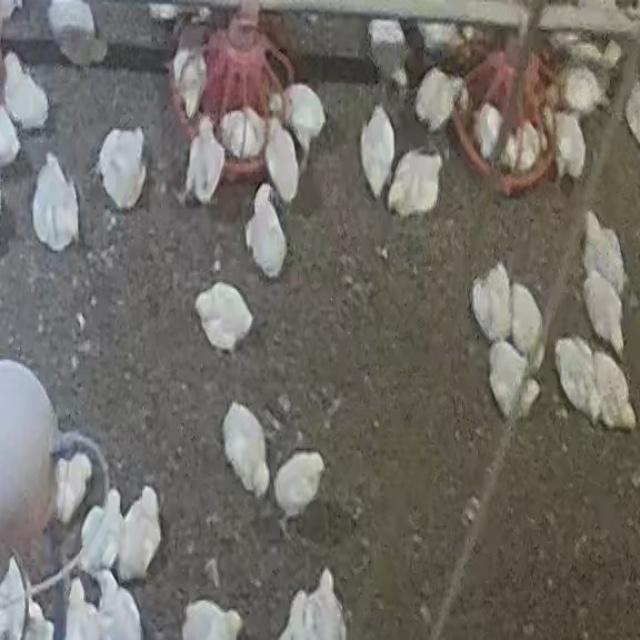chicken: (275, 567, 348, 639), (222, 402, 270, 501), (31, 154, 80, 250), (116, 487, 164, 582), (552, 337, 600, 425), (580, 210, 626, 301), (96, 127, 147, 209), (268, 84, 326, 156), (195, 280, 254, 350), (245, 184, 288, 279), (581, 271, 627, 359), (388, 146, 444, 217), (590, 350, 638, 431), (488, 341, 536, 420), (184, 117, 227, 205), (274, 451, 326, 523), (81, 483, 124, 570), (46, 1, 103, 66), (3, 51, 49, 130), (414, 66, 466, 132), (359, 105, 396, 197), (471, 264, 514, 343), (96, 563, 140, 640), (263, 118, 300, 204), (367, 20, 412, 90), (174, 22, 207, 111), (54, 451, 93, 525), (509, 281, 544, 362), (179, 598, 242, 640), (553, 110, 588, 182), (559, 65, 605, 117), (506, 121, 551, 173), (224, 109, 268, 158), (471, 101, 505, 161)
